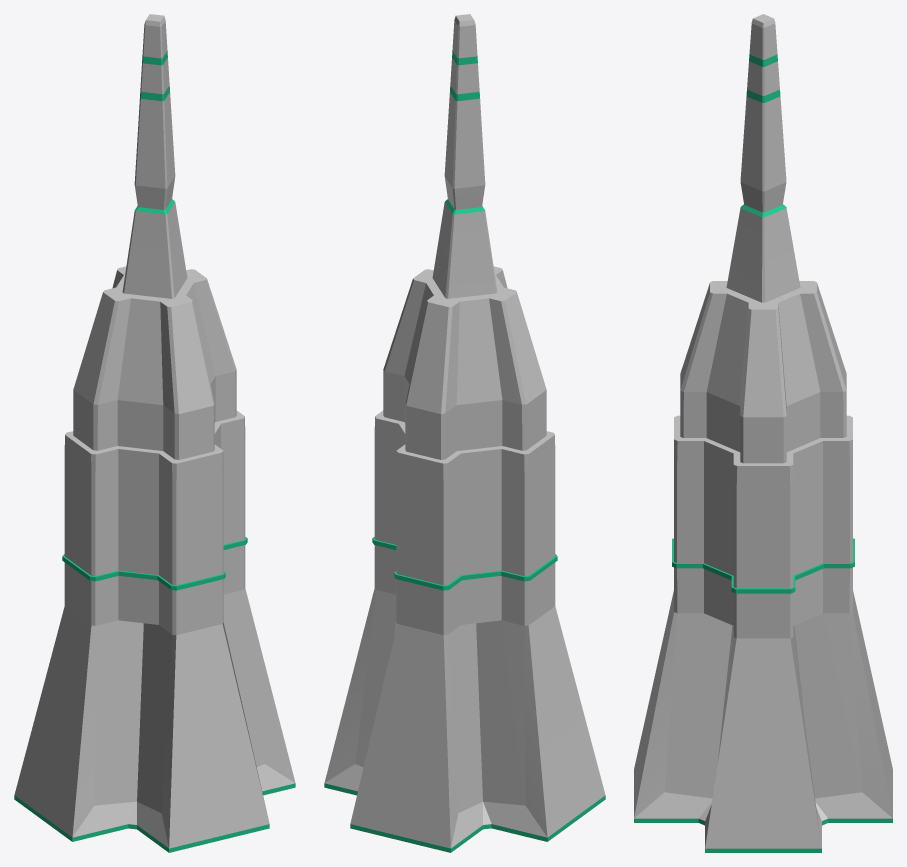
Rendered from Spire_small.fbx.
The picture shows the model from 3 angles, left to right: view 1: azimuth 30°, elevation 25°; view 2: azimuth 150°, elevation 25°; view 3: azimuth 270°, elevation 25°; orthographic projection.
Parts seen in each view (by area): view 1: spire_small; view 2: spire_small; view 3: spire_small.
Part boxes in pixels (x1,y1,x2,y2): spire_small: (14, 14, 295, 852); spire_small: (324, 14, 605, 852); spire_small: (634, 14, 892, 852).
Bounding box in the file's own units: 524 × 1740 × 524.
